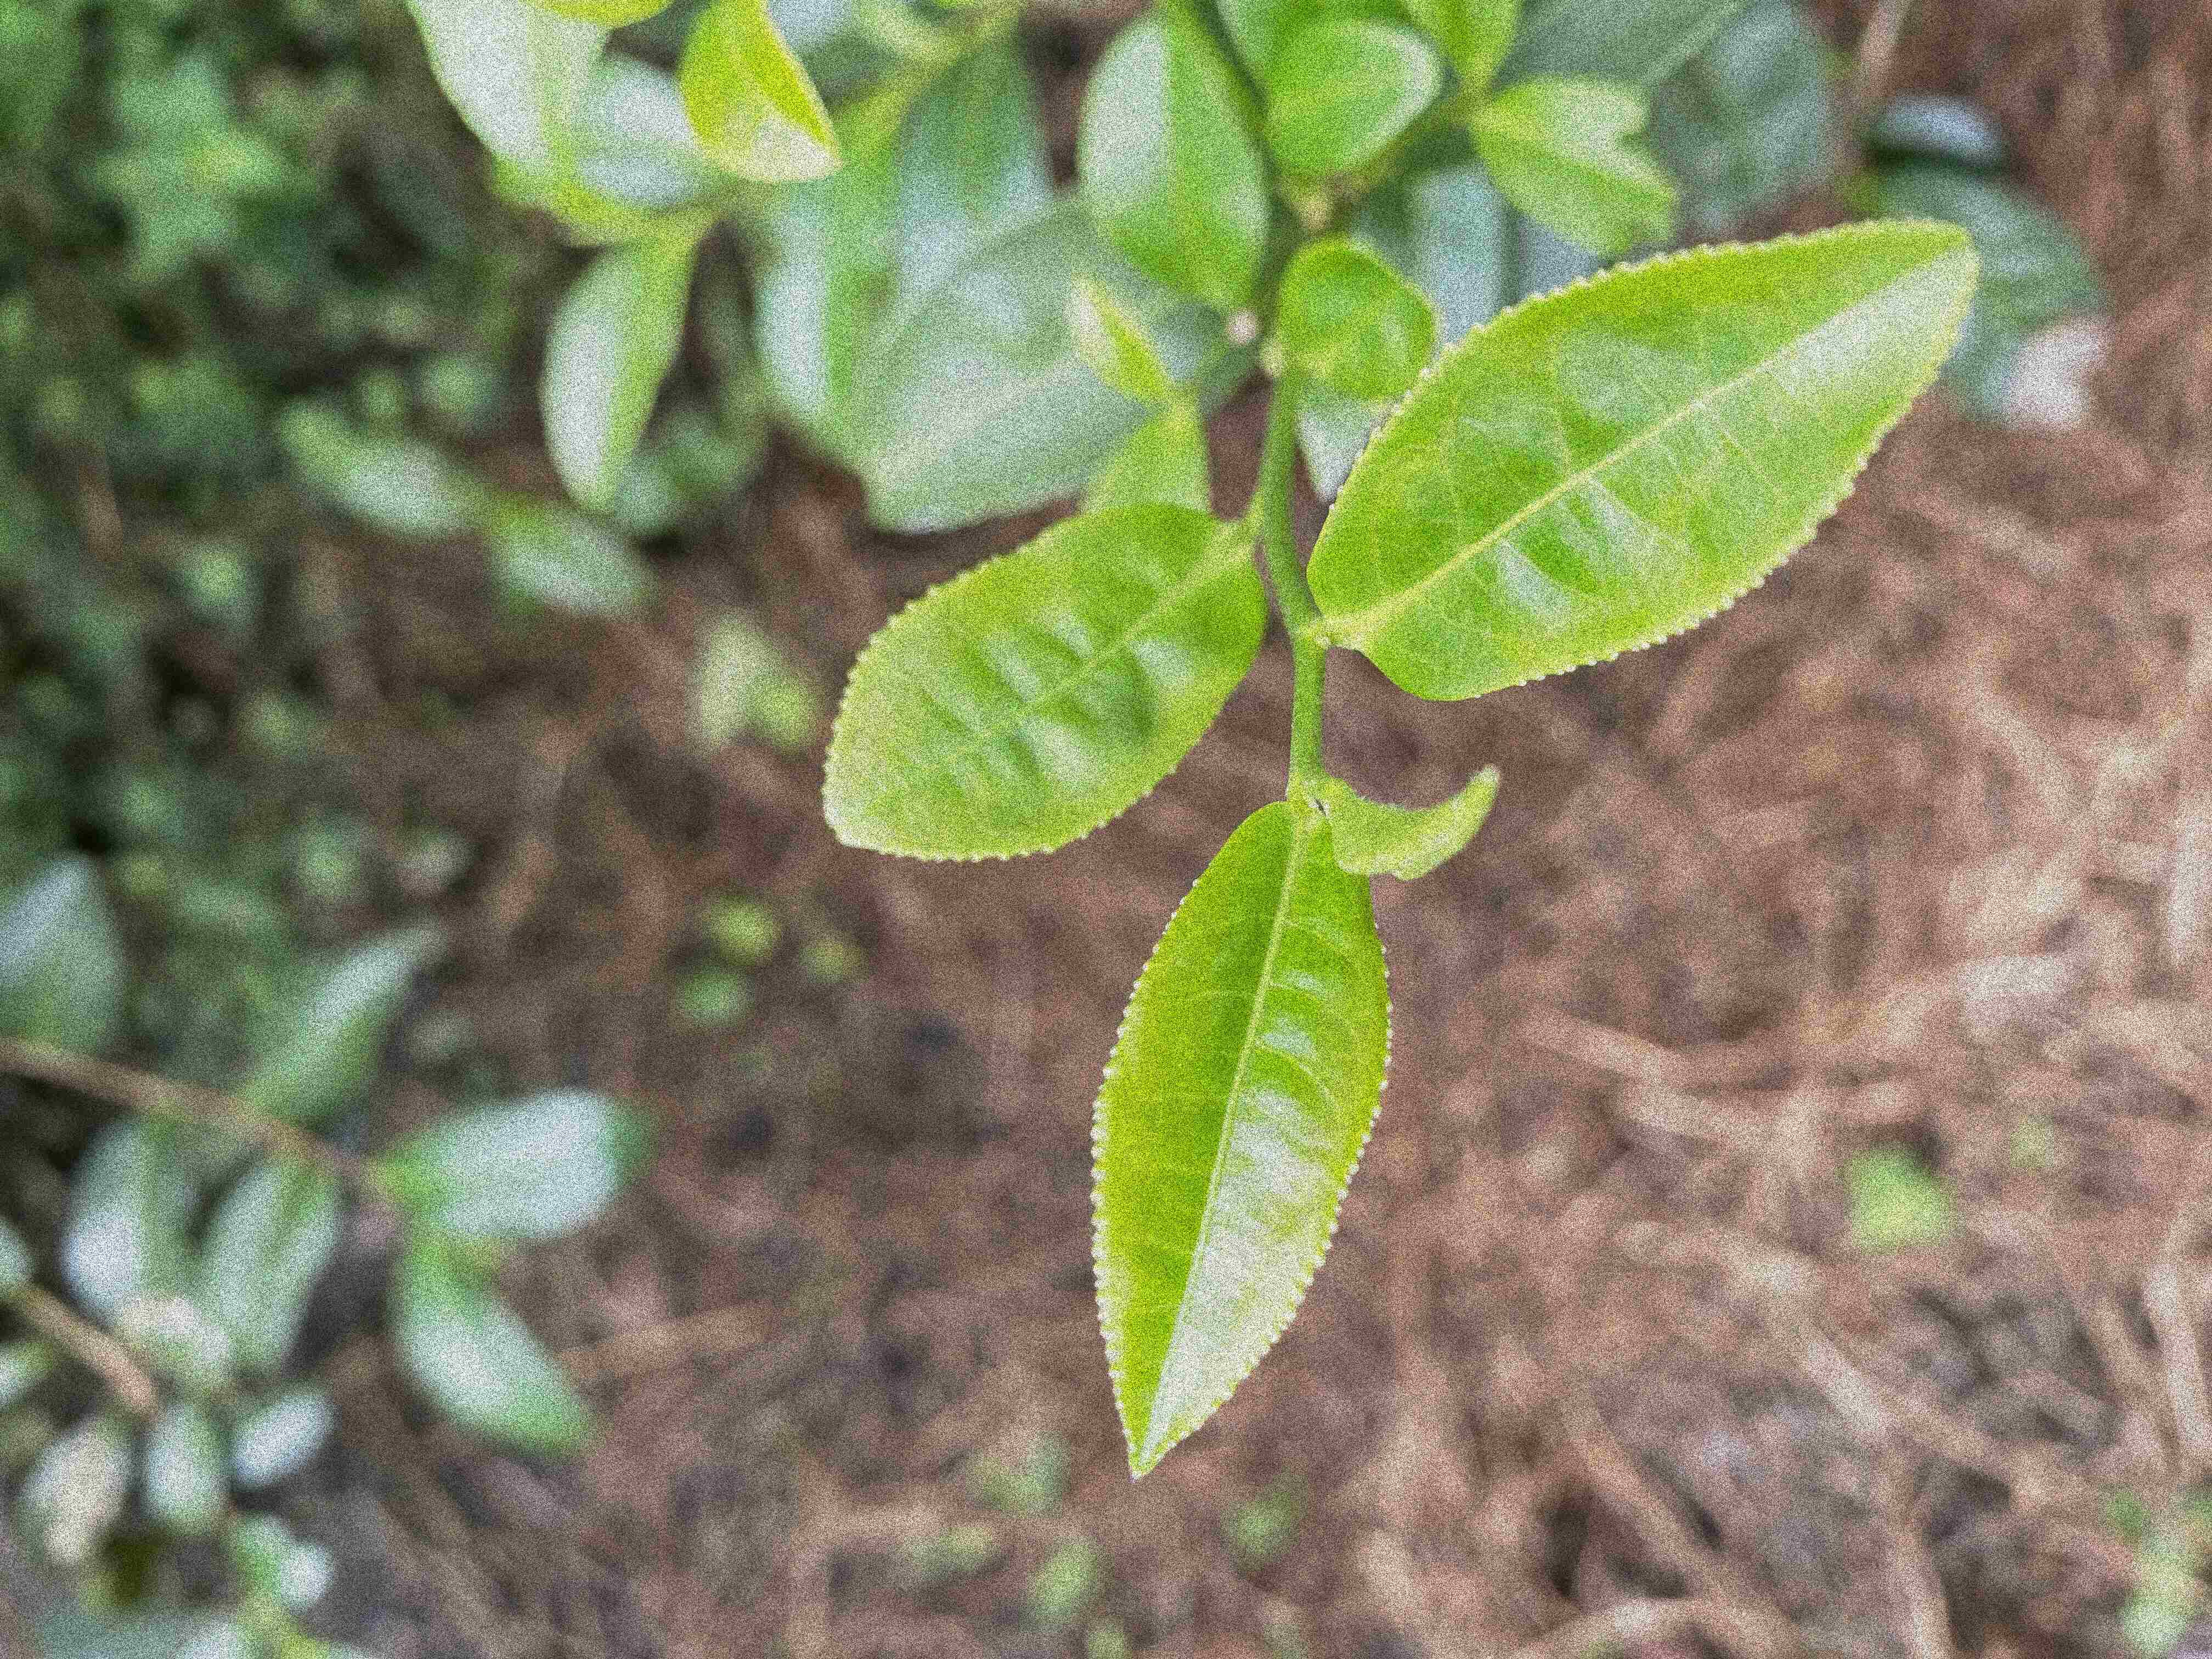healthy: (1306, 220, 1979, 702), (1085, 796, 1393, 1480), (820, 502, 1266, 864)
